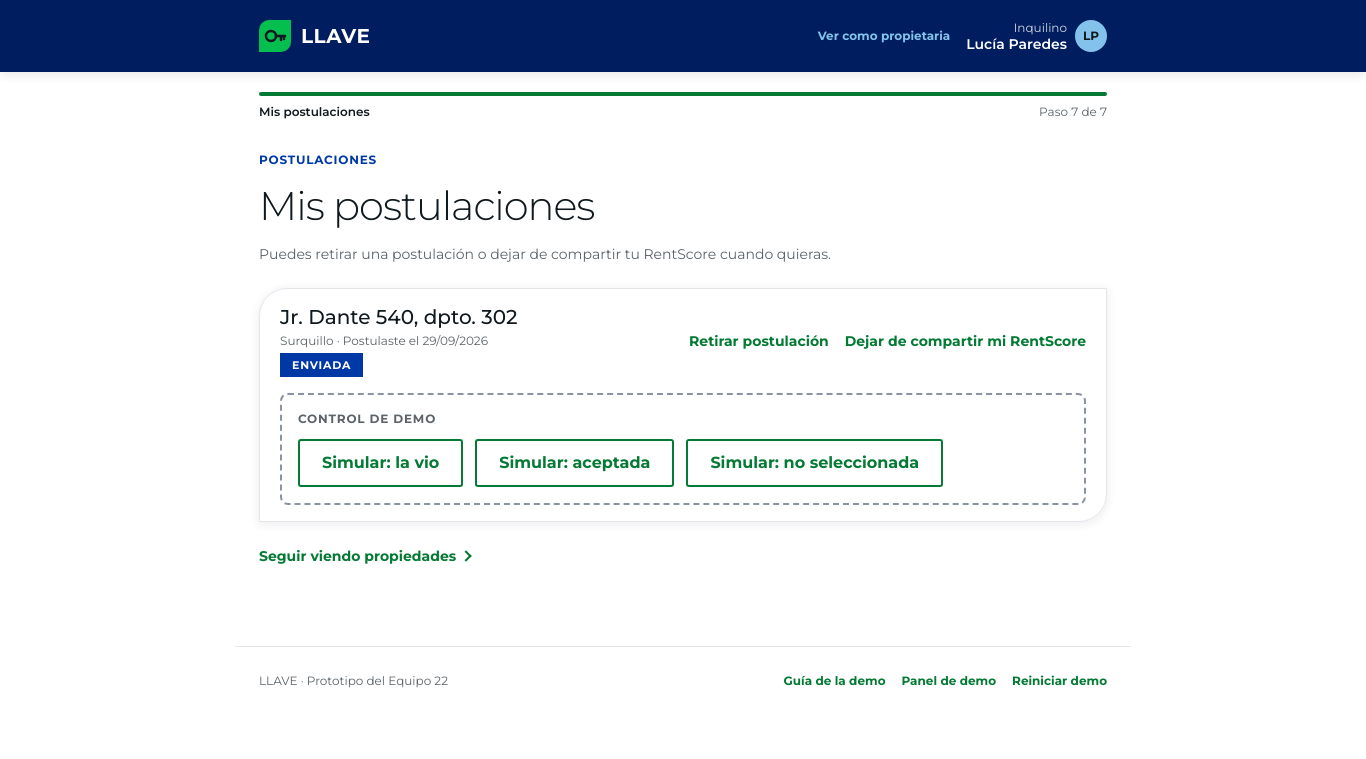
Test: journey del inquilino › aceptada con Cobro Garantizado explica que el inquilino es el deudor
Click the button with test id "demo-simular-aceptada-button".
click(575, 463)  # box [475,439,674,487]
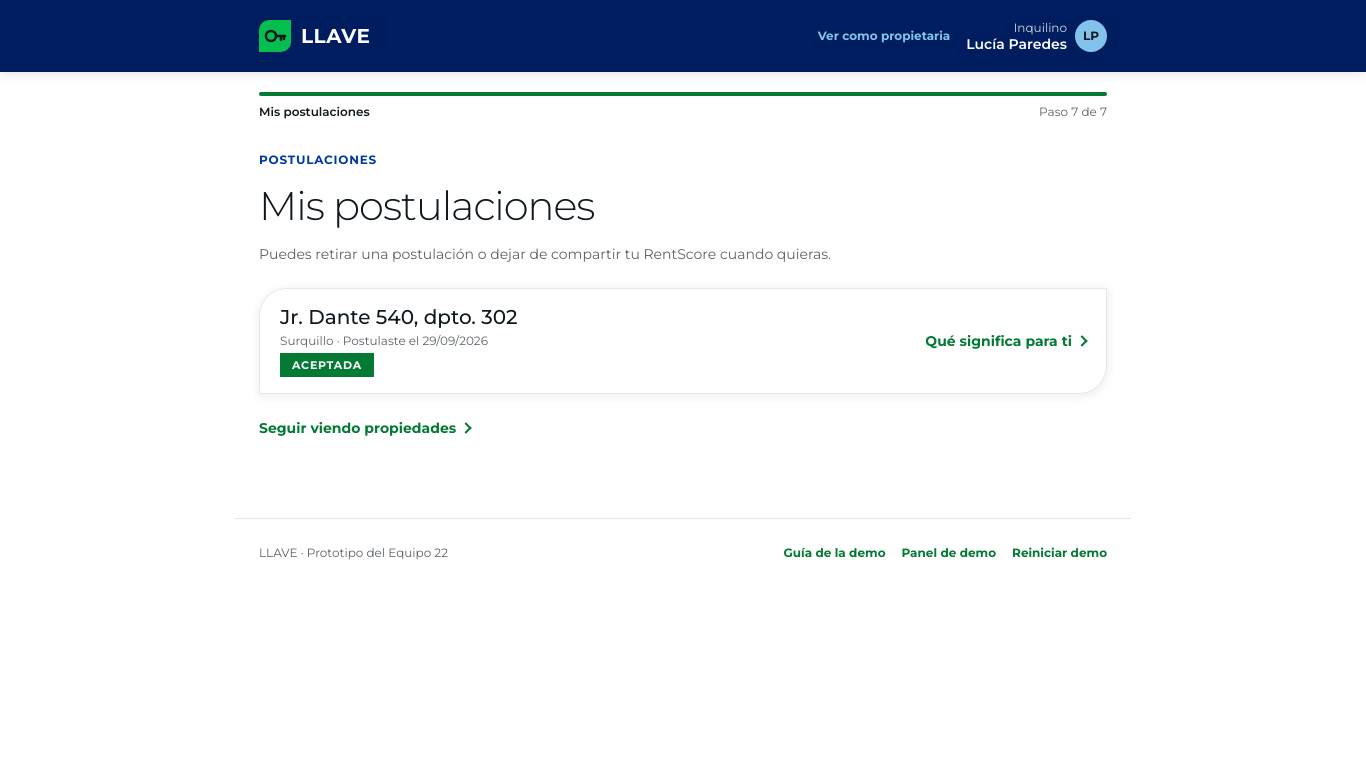
Expected: the element with test id "postulacion-surquillo-01" shows "Aceptada", [292,358,362,372]
Click the link with test id "postulacion-deudor-link".
click(1006, 341)  # box [925,331,1086,351]
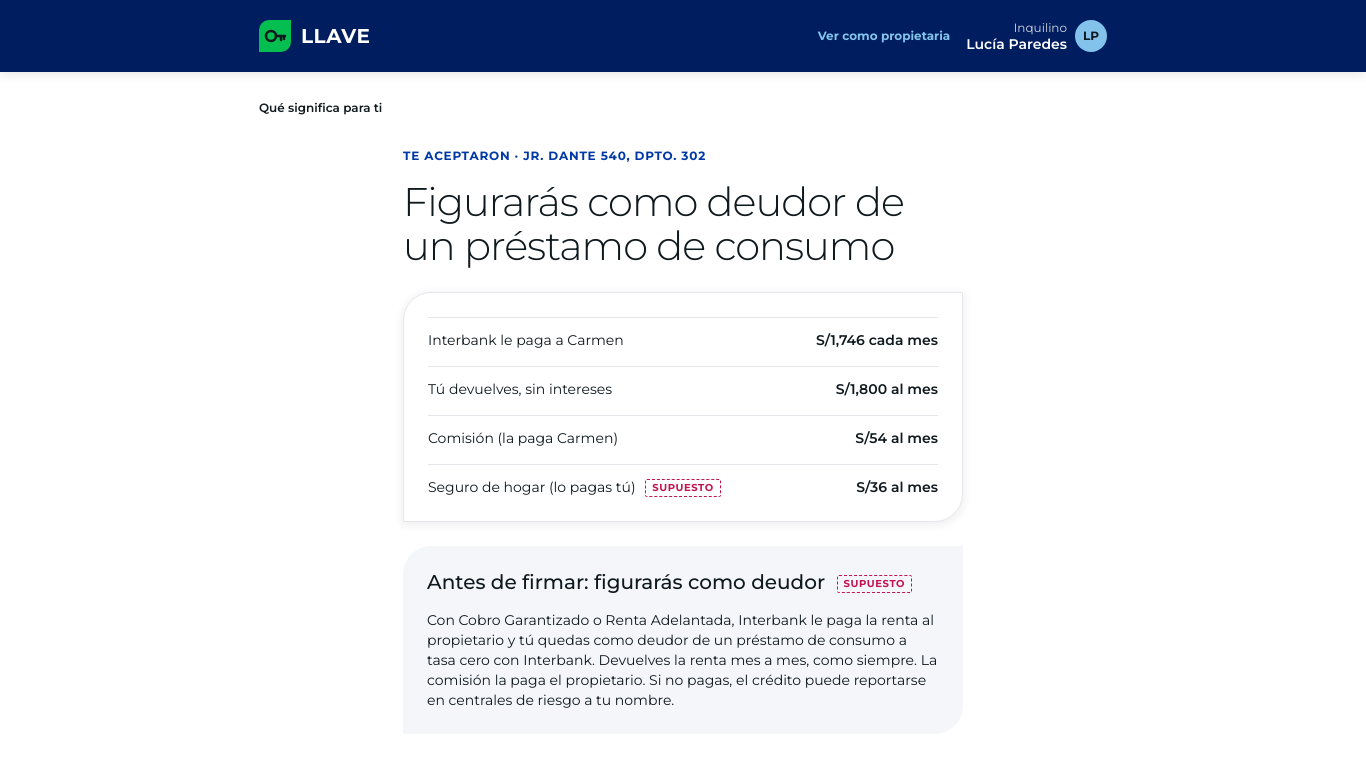
Expected: the heading "Figurarás como deudor de un préstamo de consumo" is shown, [403,180,963,268]
Expected: the element with test id "deudor-detalle" shows "S/1,746 cada mes", [816,331,938,349]
Expected: the text "centrales de riesgo a tu nombre" is shown, [427,611,937,709]
